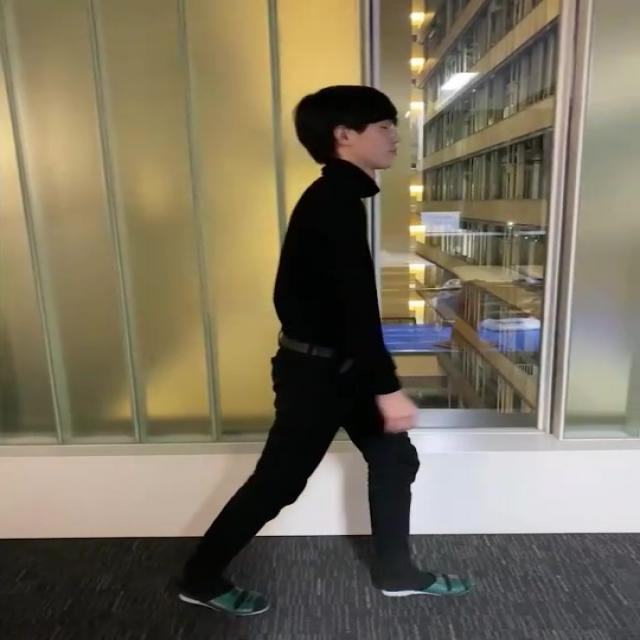direk: (173, 81, 485, 618)
